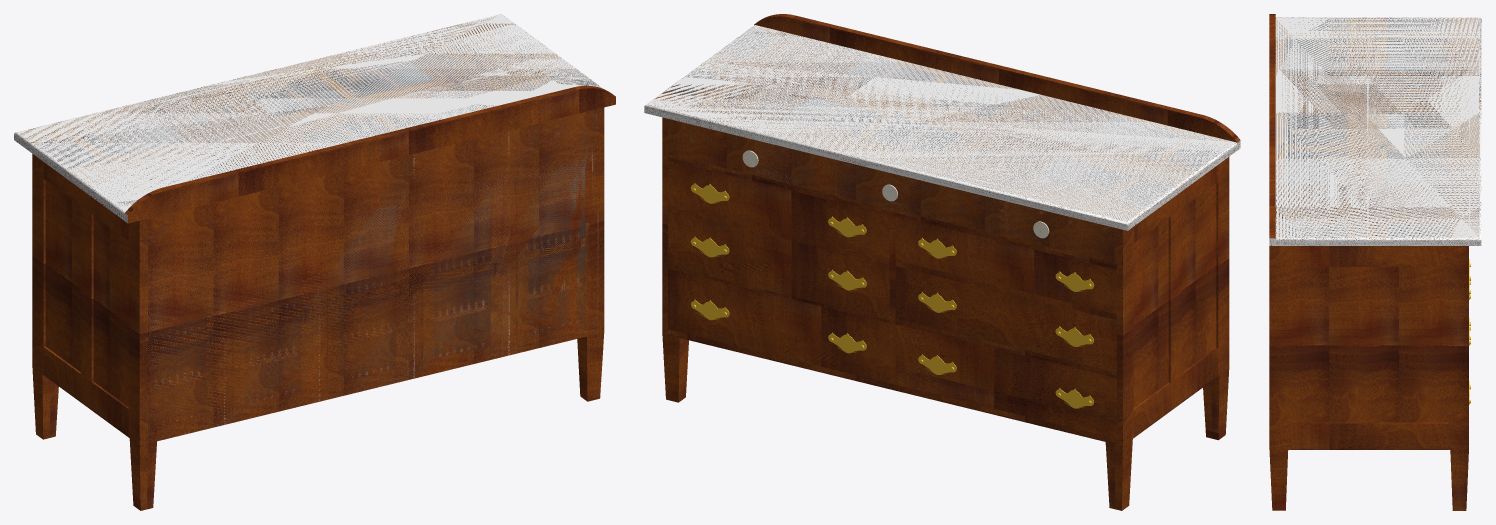
3 renders of one model, left to right at view 1: azimuth 30°, elevation 25°; view 2: azimuth 150°, elevation 25°; view 3: azimuth 270°, elevation 25°, orthographic. The views are drawn at different scales.
Parts seen in each view (by area): view 1: mesh1_mesh1-geometry; view 2: mesh1_mesh1-geometry; view 3: mesh1_mesh1-geometry.
Boxes of the visible parts, x1,y1,x2,y2 form: mesh1_mesh1-geometry: (14,14,615,510); mesh1_mesh1-geometry: (644,14,1240,510); mesh1_mesh1-geometry: (1269,14,1481,510).
Size of the model in its own units: 0.7119 by 0.4407 by 0.2882.
